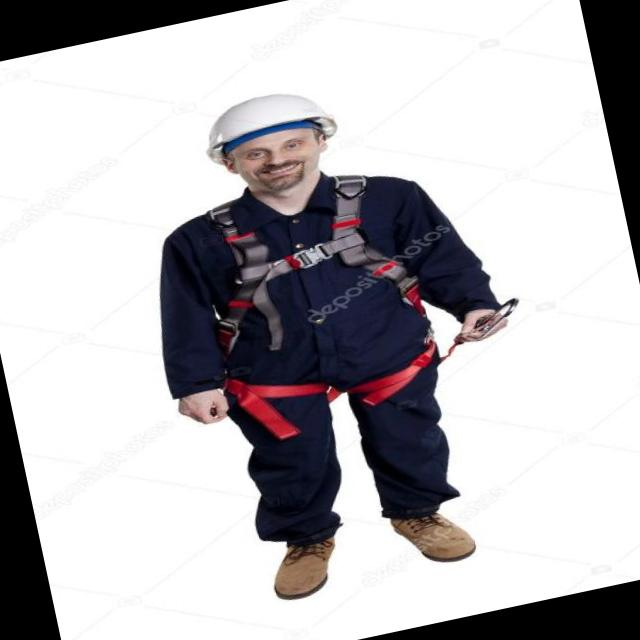Helmet: (158, 66, 365, 168)
